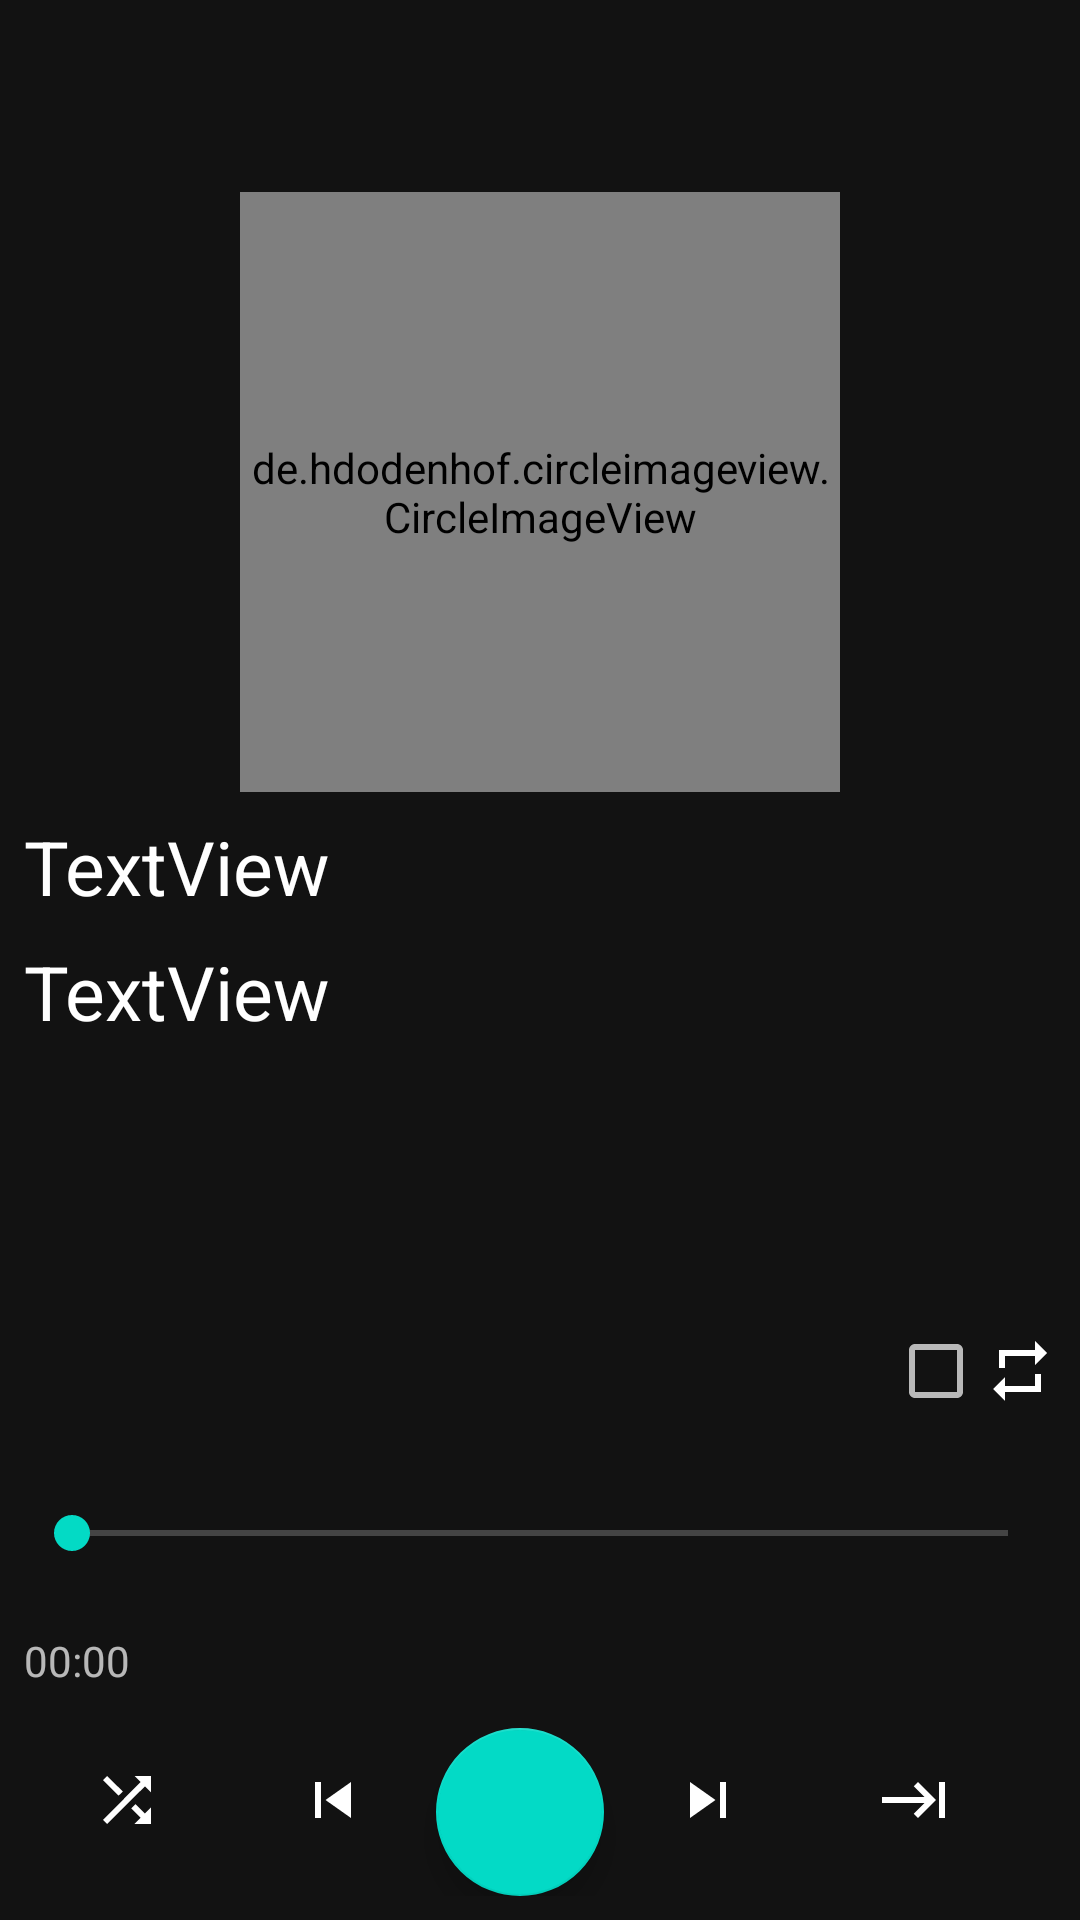

Icon click points for this 1080 × 1920 phone screenshot, format (x,y):
next: (708,1800)
previous: (333,1800)
shuffle: (127,1800)
